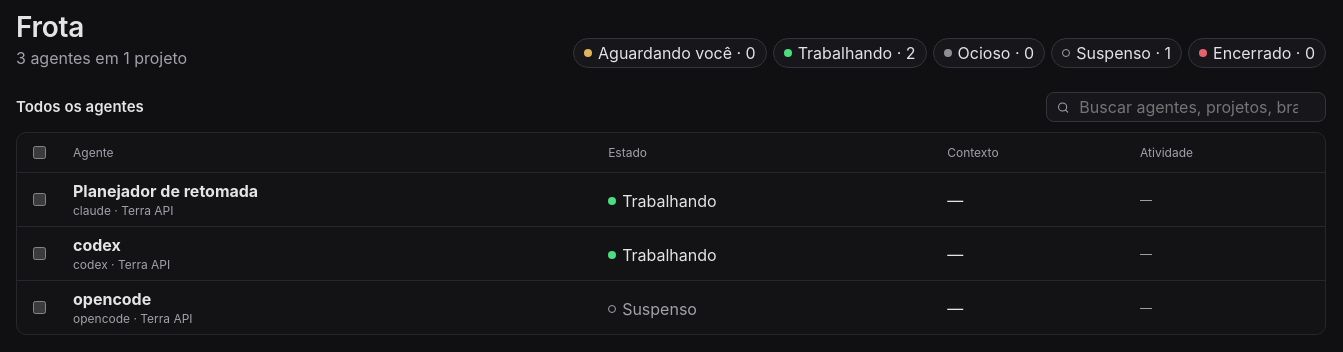
Test: FleetCommandCenter › Given a fleet, when filtering by state chip and by search, then the source fleet is kept
Click the button "Suspenso · 1" at (1117, 53), box [1051,38,1182,68]
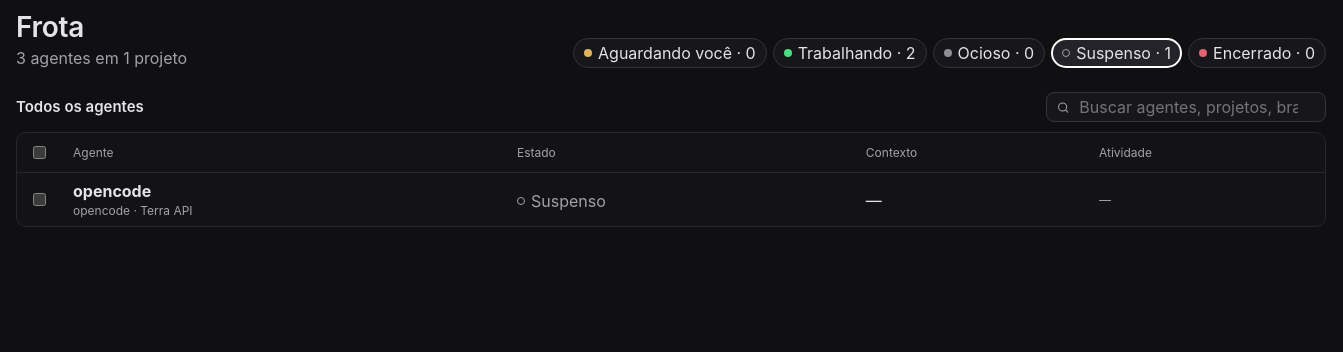
Now the number of rows is 2, box [17,133,1325,172]; [17,172,1325,226]
Click the button "Suspenso · 1" at (1117, 53), box [1051,38,1182,68]
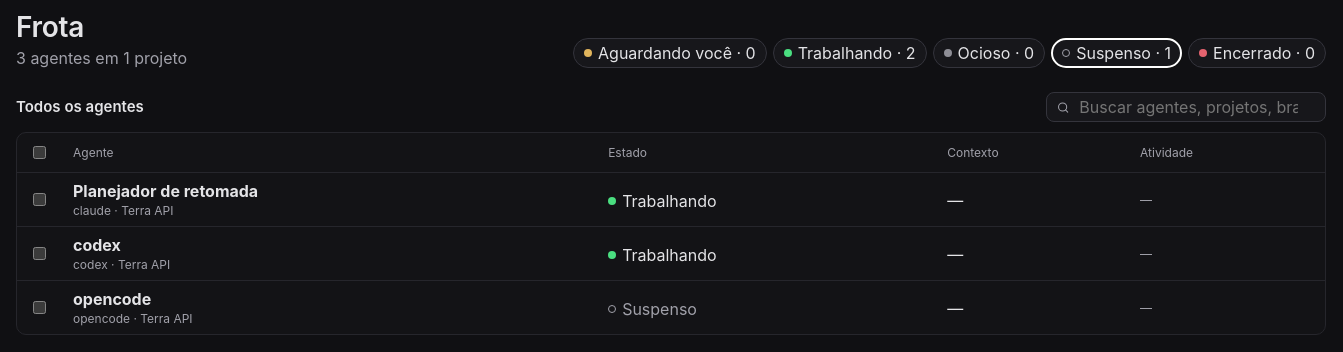
Now the number of rows is 4, box [17,133,1325,172]; [17,172,1325,226]; [17,226,1325,280]; [17,280,1325,334]
Type "zzz" into the search field named "Buscar na frota" at (1196, 107), box [1077,96,1315,118]
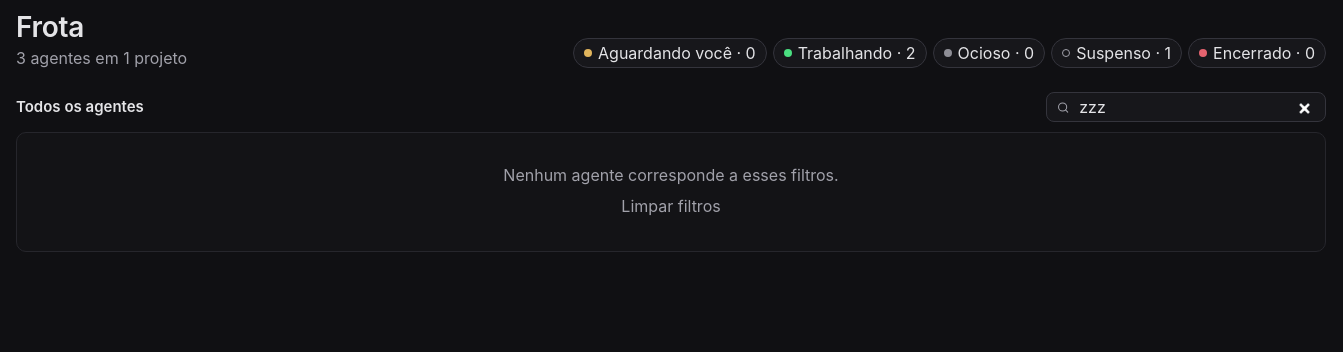
Now the text "Nenhum agente corresponde a esses filtros." is shown, box [503,165,839,185]
Click the button "Limpar filtros" at (671, 206), box [613,193,729,219]
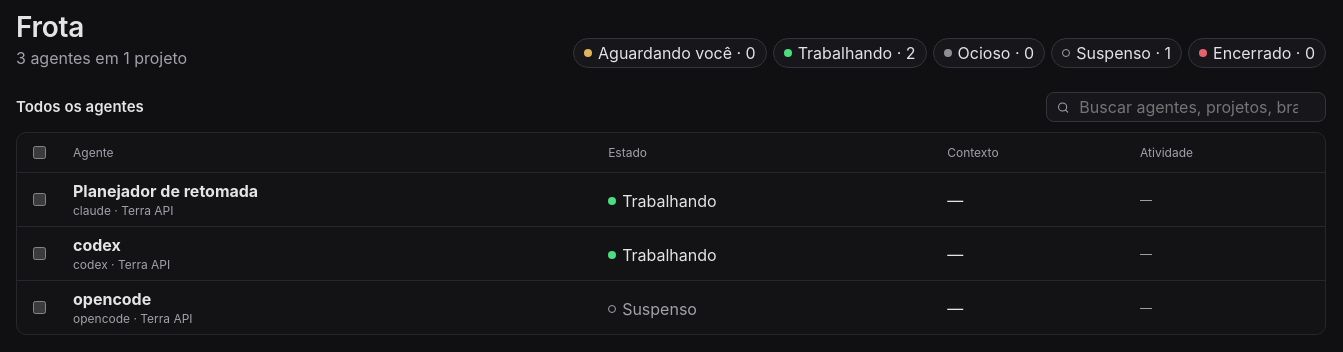
Now the number of rows is 4, box [17,133,1325,172]; [17,172,1325,226]; [17,226,1325,280]; [17,280,1325,334]
